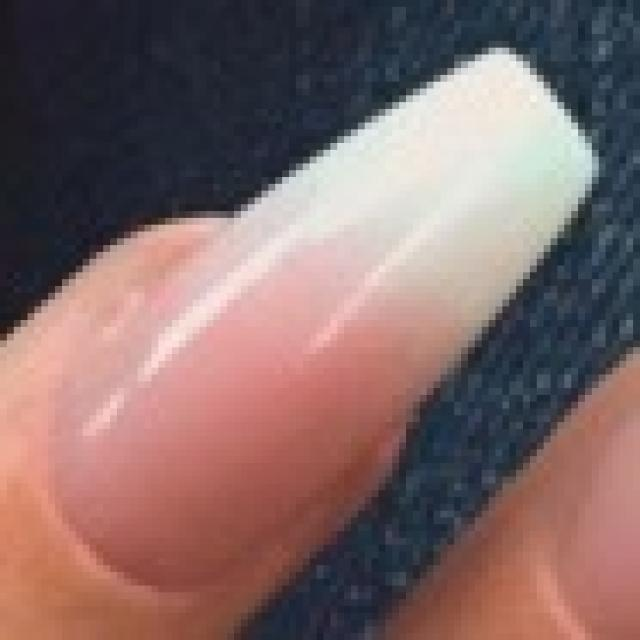Nail: (44, 44, 602, 594)
